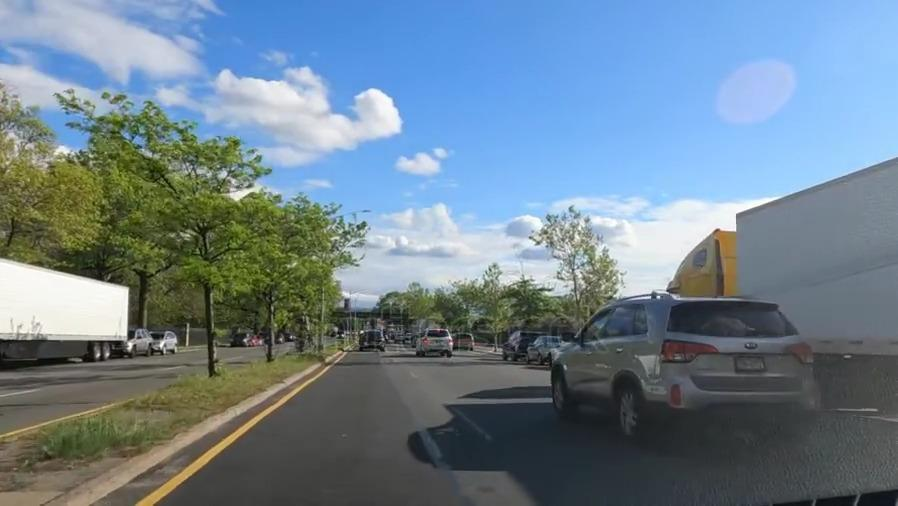car: (555, 301, 819, 428), (411, 330, 452, 356), (498, 330, 526, 359), (118, 330, 154, 352), (150, 330, 179, 357), (529, 333, 555, 363), (359, 330, 384, 353), (226, 332, 249, 350), (453, 332, 475, 350)
truck: (667, 203, 898, 318), (0, 259, 131, 369)
wheel: (608, 379, 644, 444), (546, 369, 571, 414)
